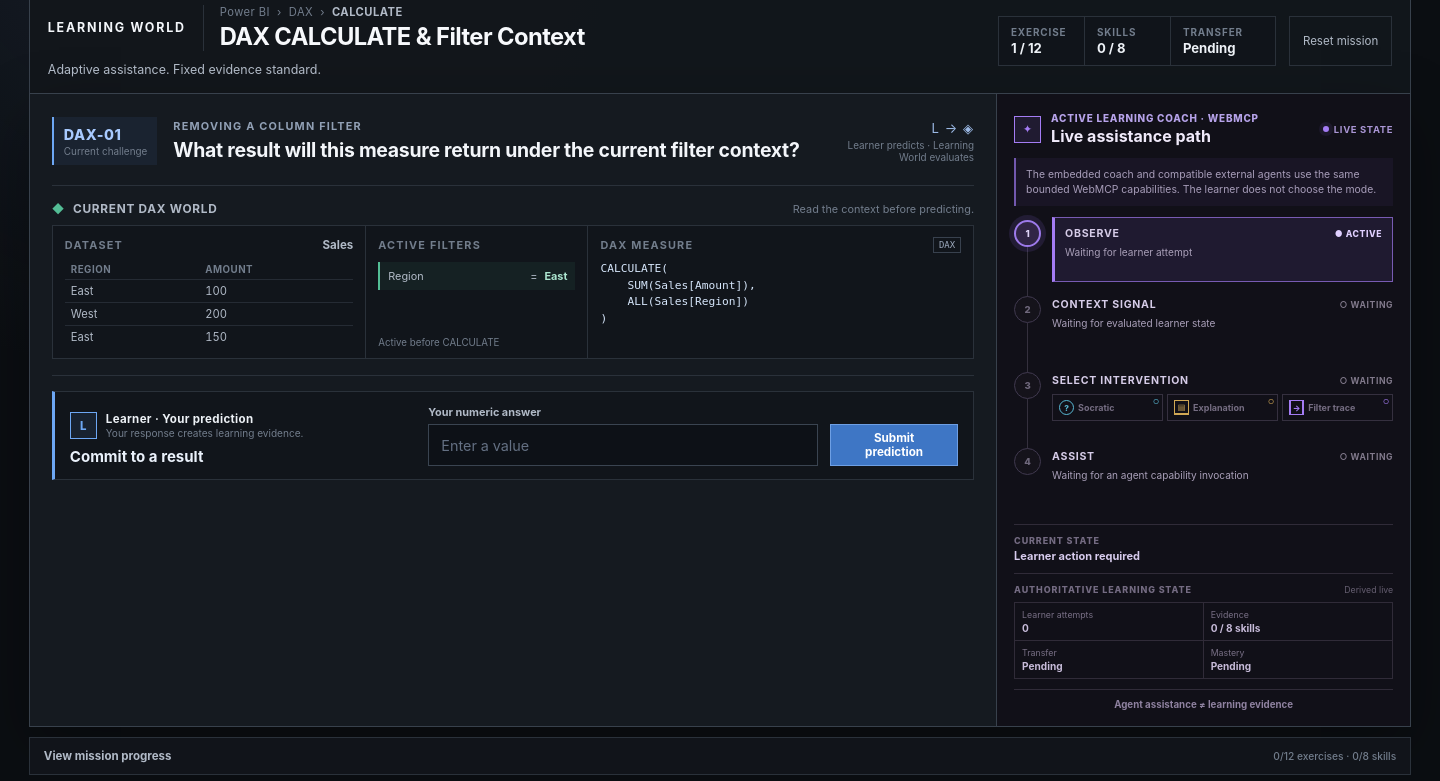
Test case: embedded DAX Active Learning Coach flow › runs for an unmapped wrong answer and exposes no invented signal
Type "123" into the number field labelled "Your numeric answer" at (623, 445), box [428,424,818,466]
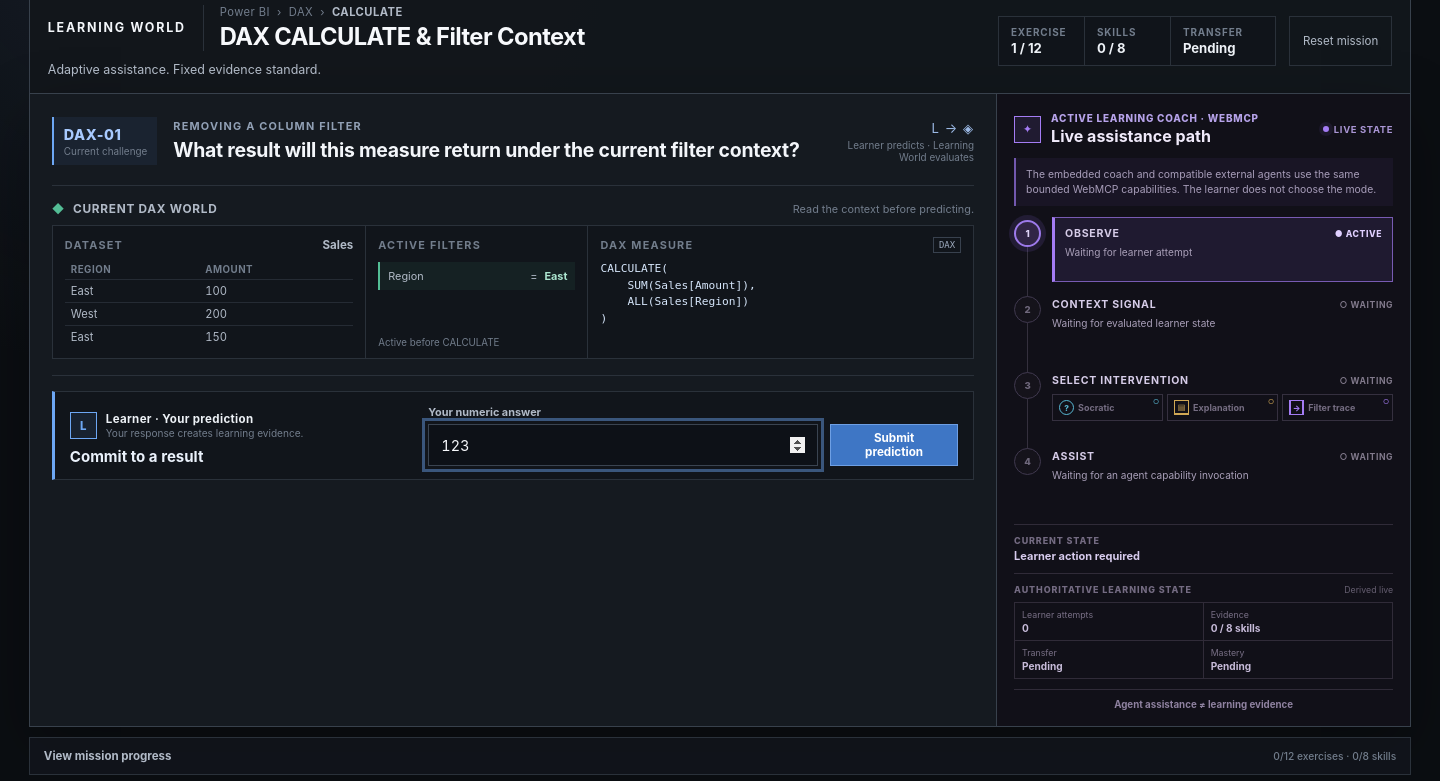
Click the button "Submit prediction" at (894, 445), box [830,424,958,466]
(page scrolled)
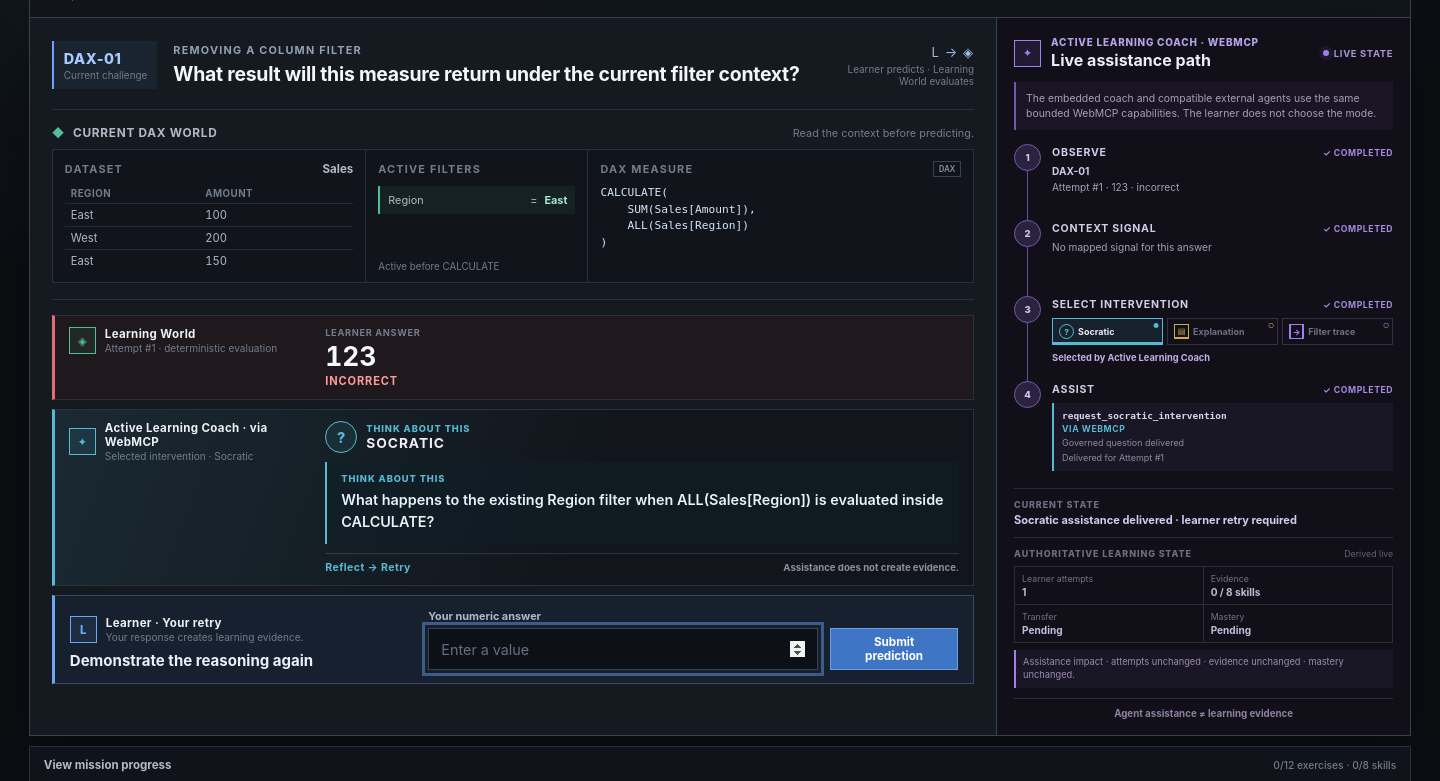
Now the element named "AI Agent intervention" is shown, box [52,409,974,586]
Now the element named "AI Agent live path" shows "No mapped signal for this answer", box [1052,241,1212,253]
